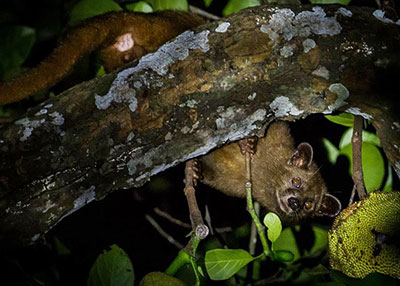Civet: (254, 138, 344, 224)
